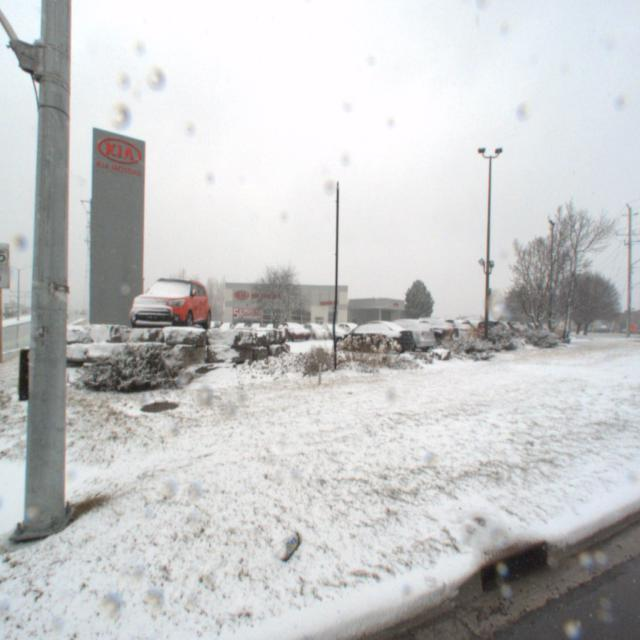Car: (117, 264, 215, 334), (326, 319, 418, 360), (358, 319, 438, 358), (383, 316, 461, 356), (404, 320, 475, 354), (268, 319, 310, 343), (294, 320, 332, 342), (330, 321, 368, 342), (312, 322, 348, 342), (215, 318, 233, 331)
